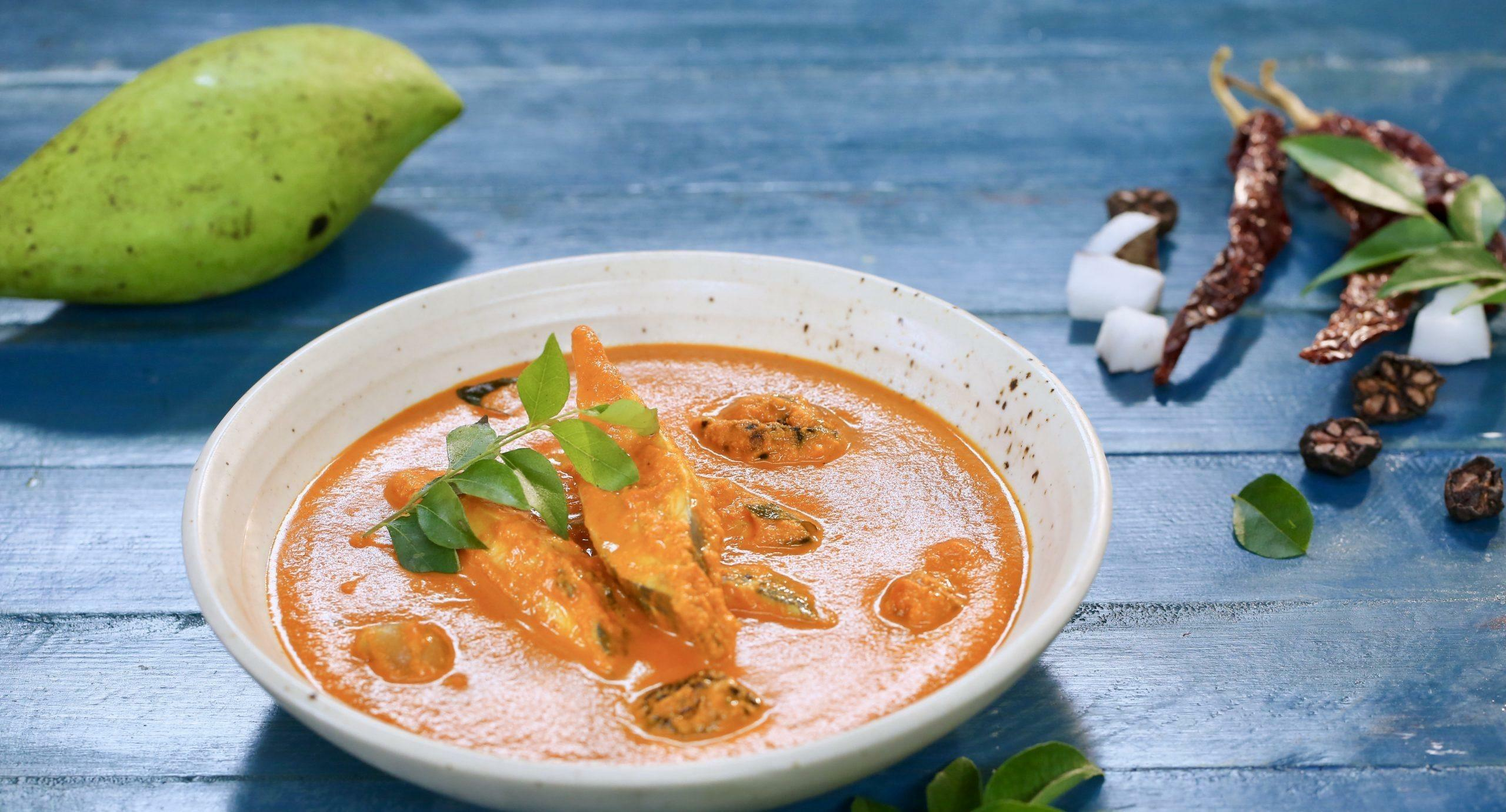FishCurry: (272, 323, 1026, 760)
